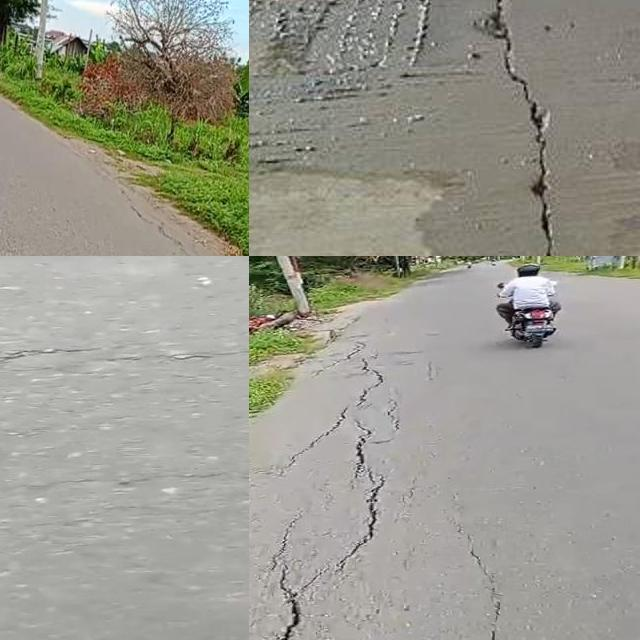Melintang: (0, 327, 249, 386)
Memanjang: (266, 416, 390, 640), (478, 0, 574, 256), (457, 528, 515, 640)
